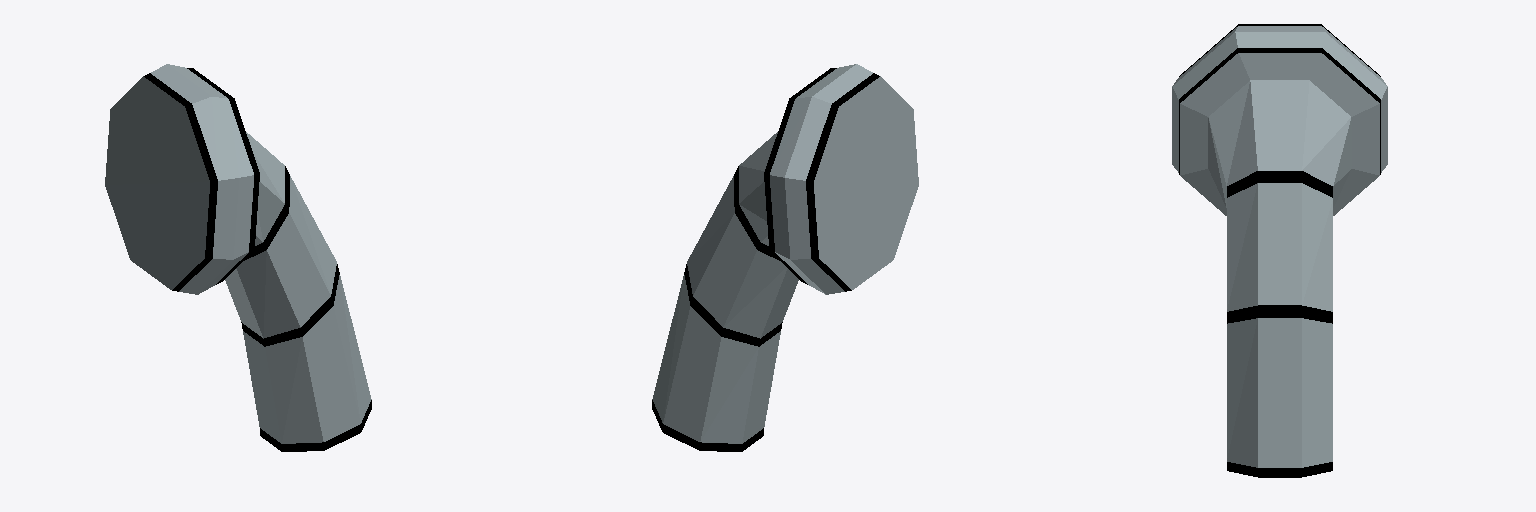
3 renders of one model, left to right at view 1: azimuth 30°, elevation 25°; view 2: azimuth 150°, elevation 25°; view 3: azimuth 270°, elevation 25°, orthographic.
Parts seen in each view (by area): view 1: brazo1_2; view 2: brazo1_2; view 3: brazo1_2.
Part boxes in pixels (left/top/right/bottom): brazo1_2: left=105, top=64, right=371, bottom=451; brazo1_2: left=652, top=64, right=918, bottom=451; brazo1_2: left=1172, top=24, right=1387, bottom=477.
Bounding box in the file's own units: 0.3748 × 0.6554 × 0.3336.
Materials: 2 (1 with a texture image).